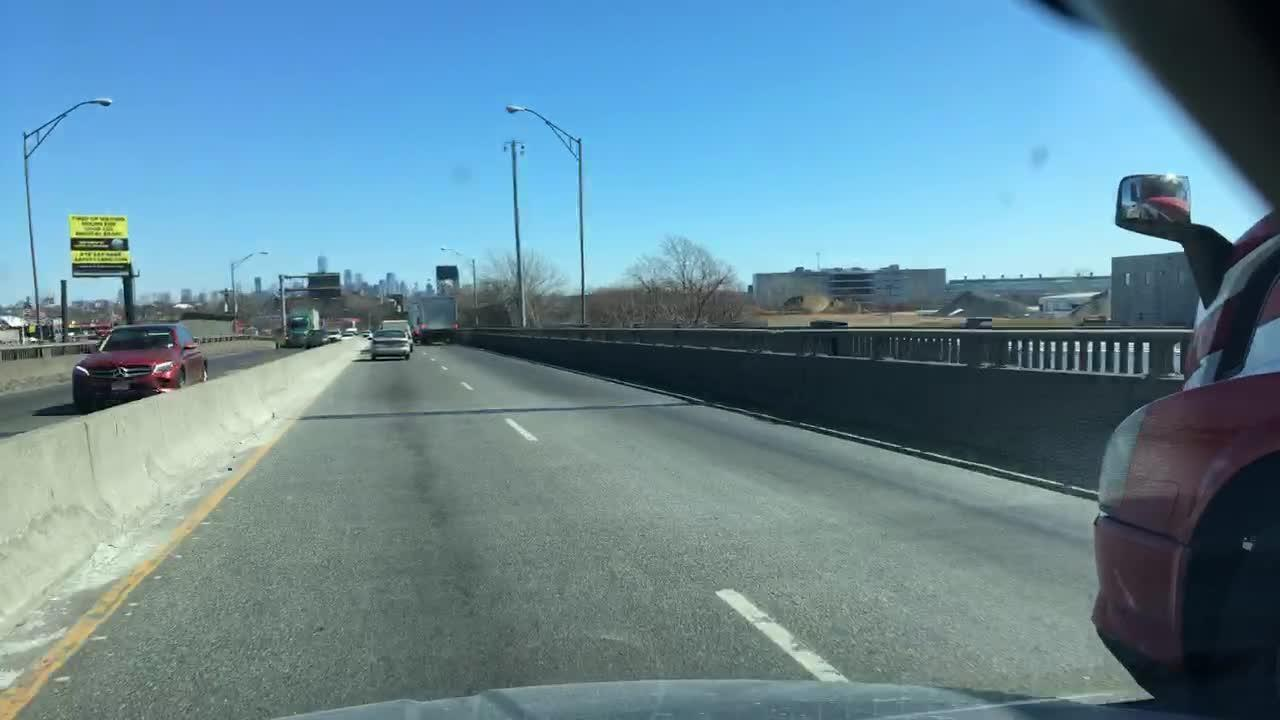Mercedes: (113, 365, 128, 382)
